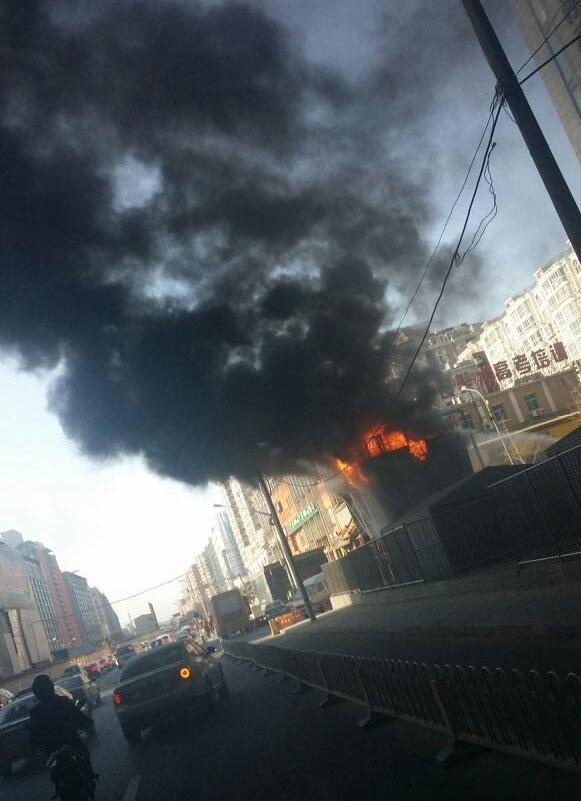fire: (331, 422, 425, 482)
